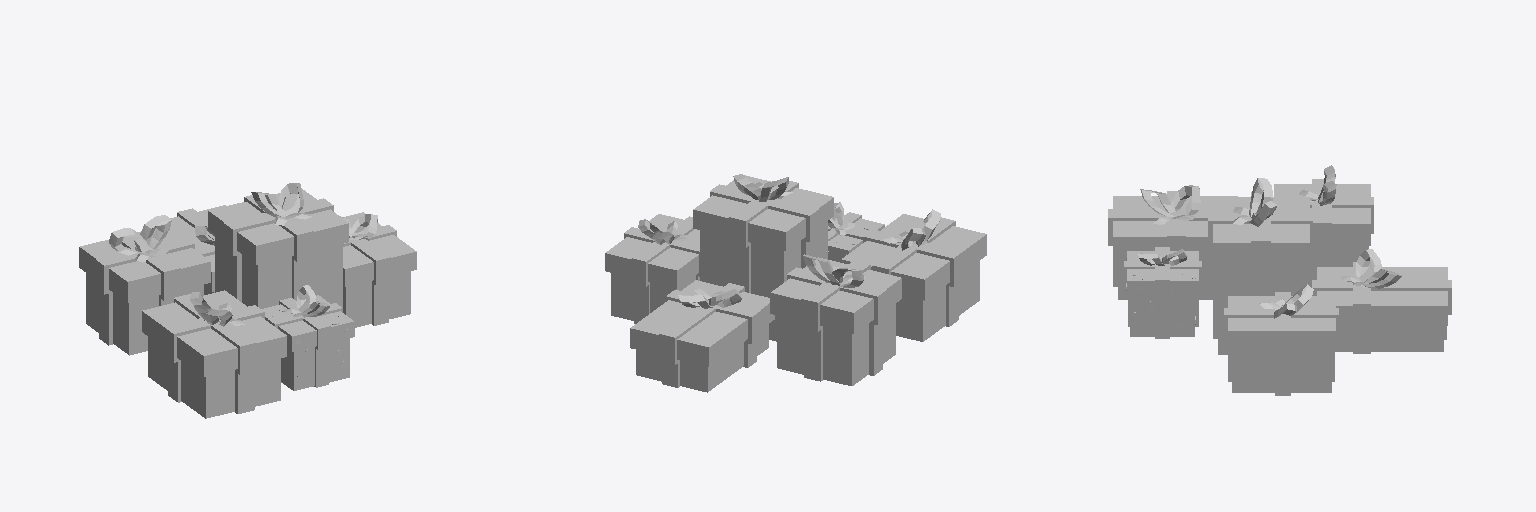
Rendered from chris.obj.
The picture shows the model from 3 angles: view 1: azimuth 30°, elevation 25°; view 2: azimuth 150°, elevation 25°; view 3: azimuth 270°, elevation 25°; orthographic projection.
Parts seen in each view (by area): view 1: group[number redacted], group[number redacted], group[number redacted], group[number redacted], group[number redacted], group[number redacted], group[number redacted], group[number redacted], group[number redacted], group[number redacted], group[number redacted], group[number redacted] (+16 smaller); view 2: group[number redacted], group[number redacted], group[number redacted], group[number redacted], group[number redacted], group[number redacted], group[number redacted], group[number redacted], group[number redacted], group[number redacted], group[number redacted], group[number redacted] (+15 smaller); view 3: group[number redacted], group[number redacted], group[number redacted], group[number redacted], group[number redacted], group[number redacted], group[number redacted], group[number redacted], group[number redacted], group[number redacted], group[number redacted], group[number redacted] (+18 smaller).
Part boxes in pixels (bbox=[...]): group[number redacted]: bbox=[142, 290, 286, 376]; group[number redacted]: bbox=[215, 235, 342, 308]; group[number redacted]: bbox=[208, 188, 348, 264]; group[number redacted]: bbox=[148, 337, 280, 418]; group[number redacted]: bbox=[79, 228, 210, 302]; group[number redacted]: bbox=[86, 273, 203, 355]; group[number redacted]: bbox=[343, 212, 416, 286]; group[number redacted]: bbox=[343, 271, 410, 327]; group[number redacted]: bbox=[281, 338, 349, 390]; group[number redacted]: bbox=[95, 237, 194, 345]; group[number redacted]: bbox=[261, 295, 354, 351]; group[number redacted]: bbox=[174, 294, 256, 374]; group[number redacted]: bbox=[630, 280, 774, 366]; group[number redacted]: bbox=[777, 304, 895, 385]; group[number redacted]: bbox=[841, 214, 986, 300]; group[number redacted]: bbox=[693, 175, 833, 250]; group[number redacted]: bbox=[700, 221, 827, 341]; group[number redacted]: bbox=[770, 257, 901, 333]; group[number redacted]: bbox=[605, 214, 699, 288]; group[number redacted]: bbox=[896, 261, 979, 341]; group[number redacted]: bbox=[636, 324, 768, 392]; group[number redacted]: bbox=[801, 261, 870, 381]; group[number redacted]: bbox=[787, 267, 887, 375]; group[number redacted]: bbox=[611, 273, 695, 320]; group[number redacted]: bbox=[1317, 267, 1447, 325]; group[number redacted]: bbox=[1213, 197, 1309, 261]; group[number redacted]: bbox=[1228, 296, 1335, 349]; group[number redacted]: bbox=[1232, 350, 1331, 392]; group[number redacted]: bbox=[1113, 196, 1237, 257]; group[number redacted]: bbox=[1218, 262, 1304, 354]; group[number redacted]: bbox=[1274, 184, 1370, 245]; group[number redacted]: bbox=[1335, 326, 1443, 351]; group[number redacted]: bbox=[1130, 297, 1194, 336]; group[number redacted]: bbox=[1127, 251, 1198, 296]; group[number redacted]: bbox=[1312, 179, 1331, 279]; group[number redacted]: bbox=[1140, 185, 1200, 224].
Bounding box in the file's own units: 2.62 × 1.33 × 2.81.